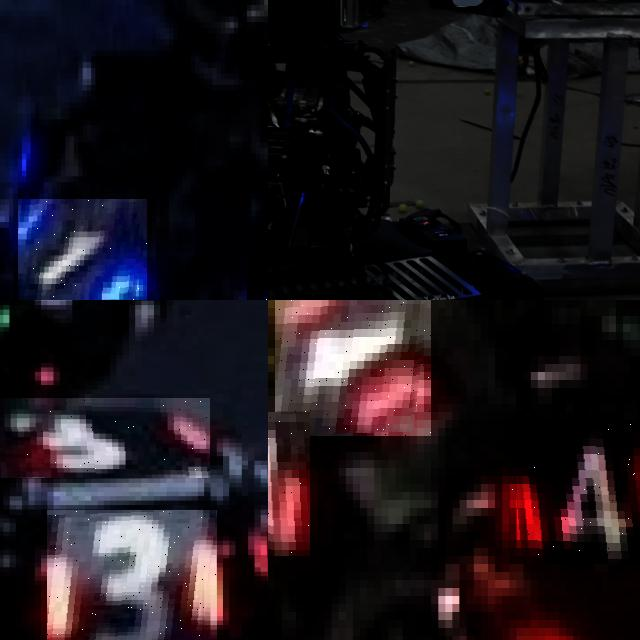B1: (17, 199, 147, 300)
R3: (47, 509, 216, 640), (0, 398, 210, 478)
R4: (274, 300, 431, 436), (509, 420, 640, 564), (268, 412, 310, 556)
